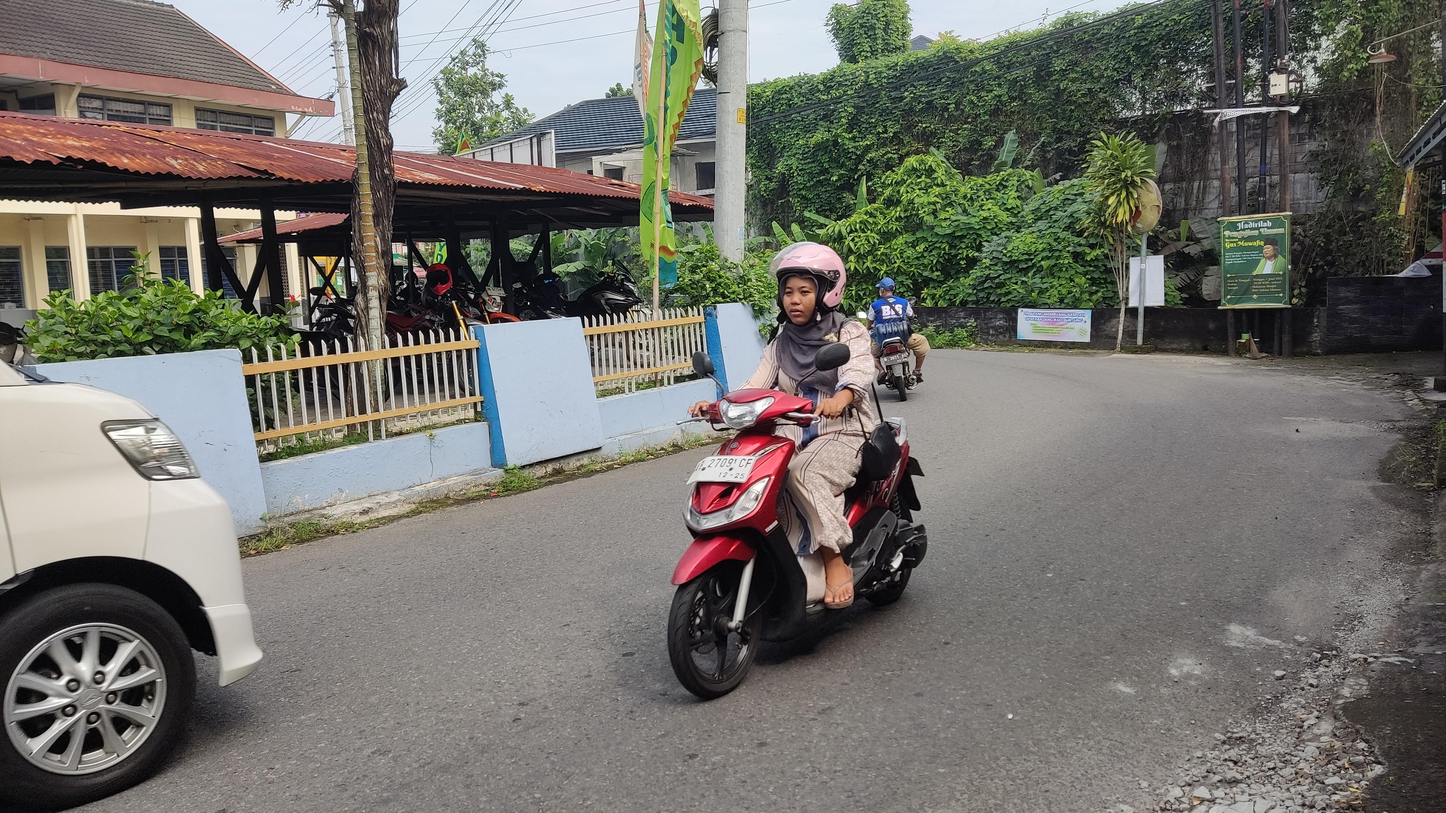helm: (768, 236, 856, 330)
riding: (643, 224, 959, 715)
